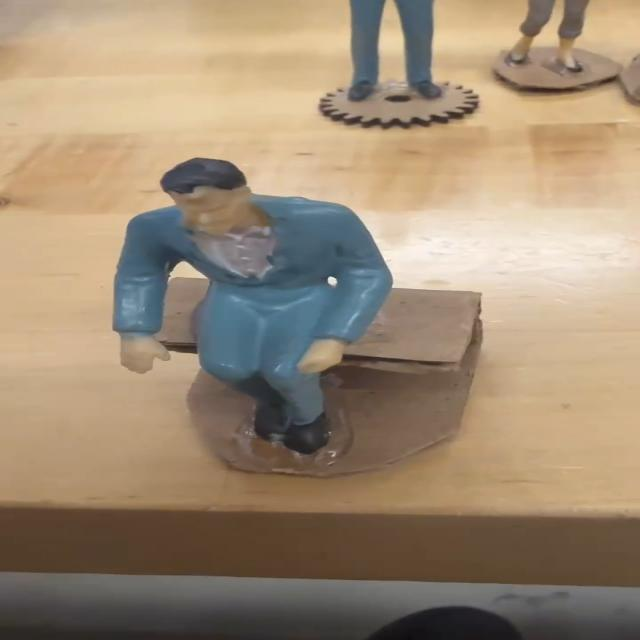Authorized: (73, 149, 481, 431)
